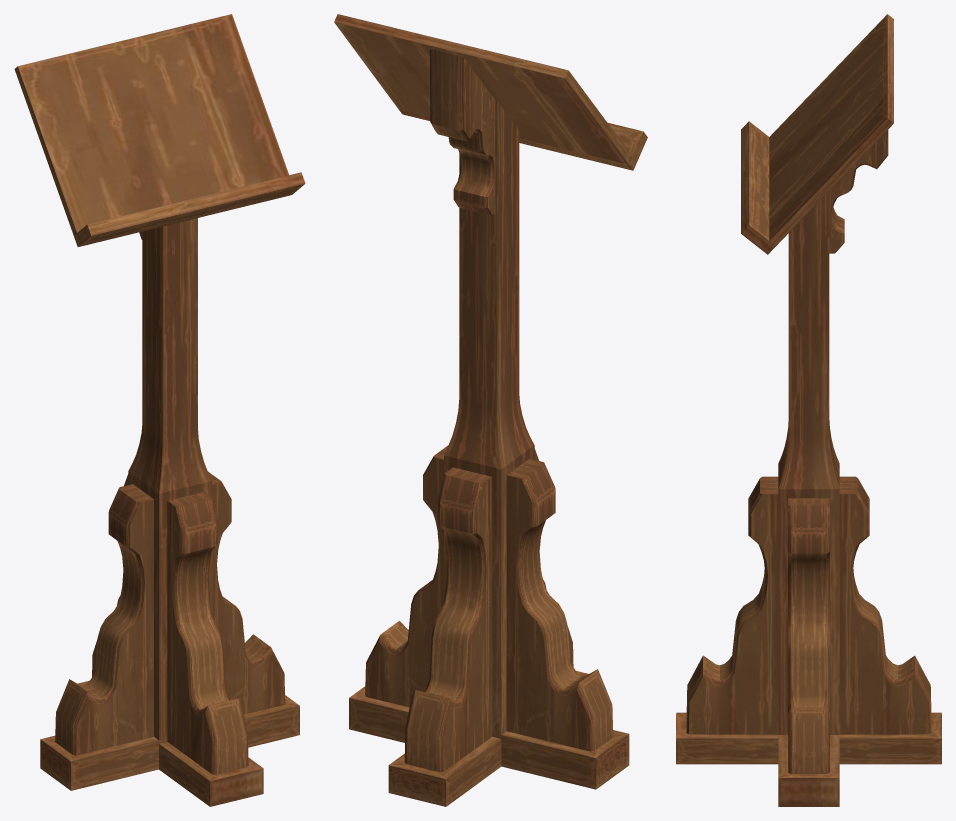
The model's file is quaternius-fantasy-props-bookstand.glb.
The picture shows the model from 3 angles, left to right: view 1: azimuth 30°, elevation 25°; view 2: azimuth 150°, elevation 25°; view 3: azimuth 270°, elevation 25°; orthographic projection. The views are drawn at different scales.
Visible parts, largest first — view 1: BookStand; view 2: BookStand; view 3: BookStand.
Part boxes in pixels (left/top/right/bottom): BookStand: left=14, top=14, right=305, bottom=806; BookStand: left=334, top=14, right=647, bottom=806; BookStand: left=676, top=14, right=941, bottom=806.
Bounding box in the file's own units: 0.1682 × 0.48 × 0.1696.
Materials: 1 (1 with a texture image).
